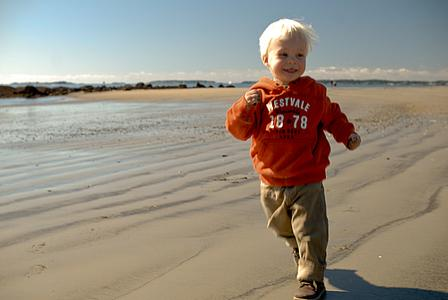person: (226, 19, 362, 300)
